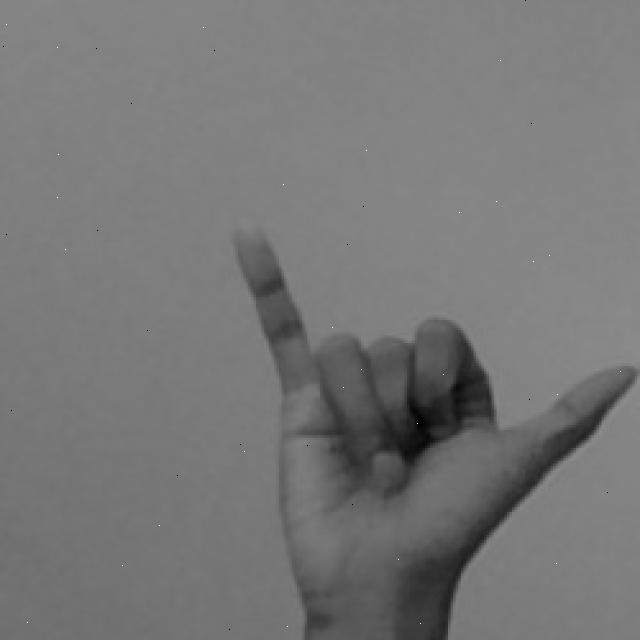Y: (225, 210, 640, 640)
